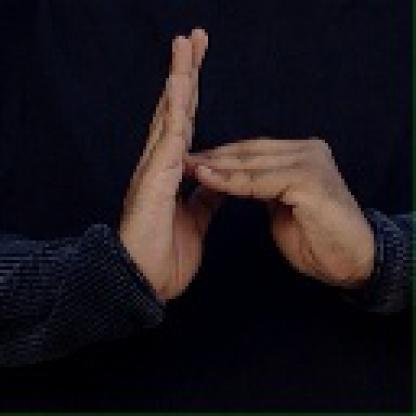Z: (108, 23, 375, 298)
